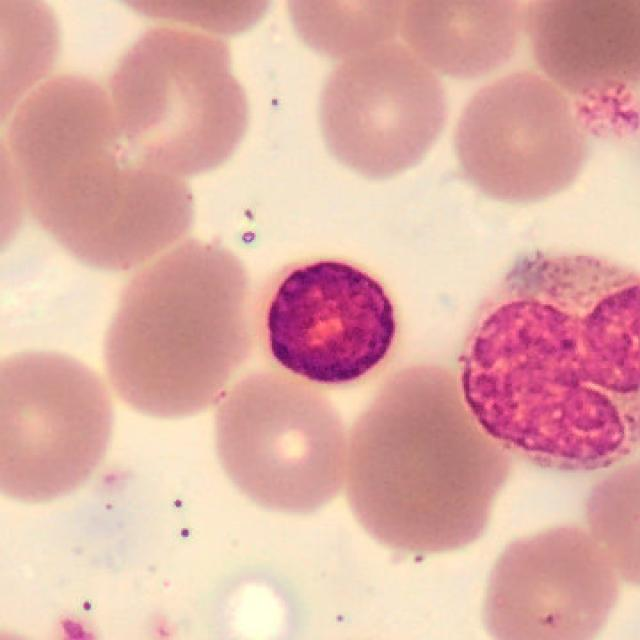Linfocito: (263, 260, 396, 386)
Metamielocito: (459, 256, 640, 473)
